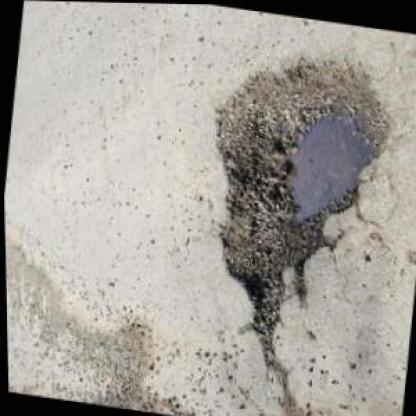pothole: (184, 40, 400, 337)
